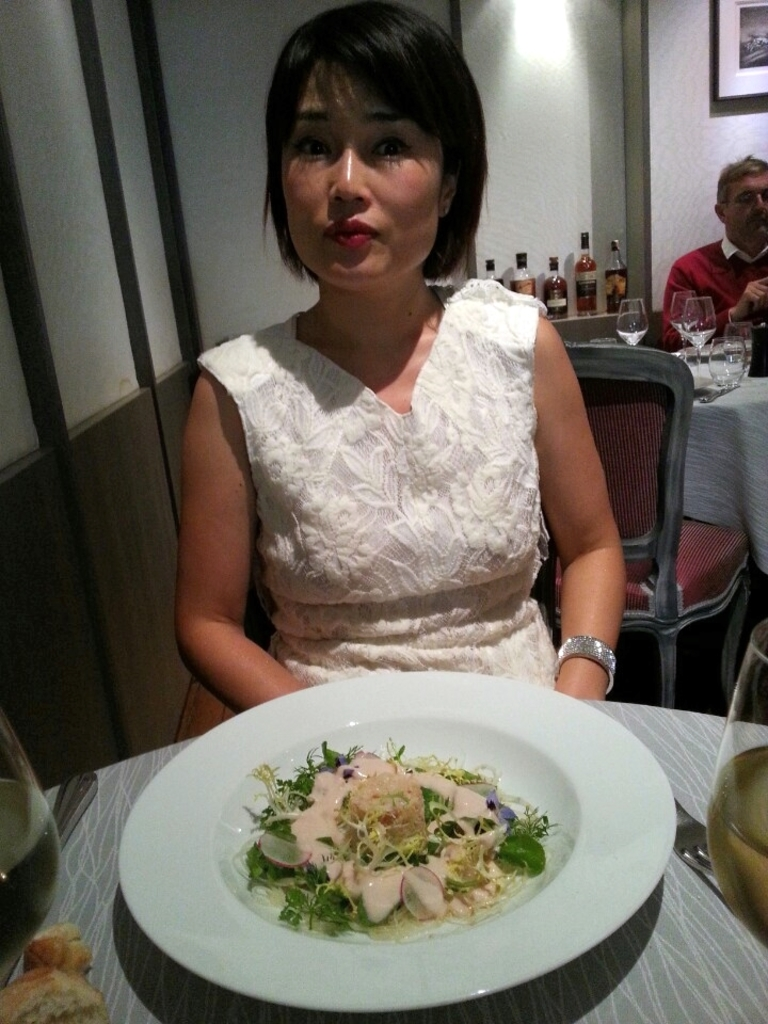salad: (215, 697, 572, 963)
